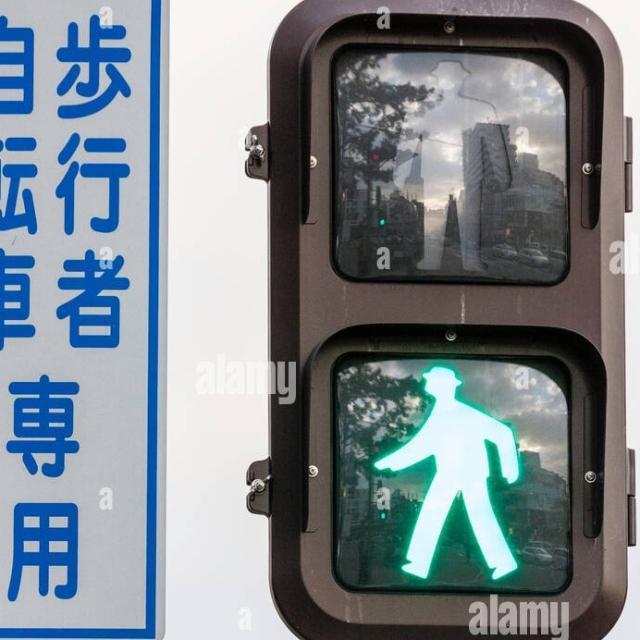green_light: (370, 360, 544, 586)
